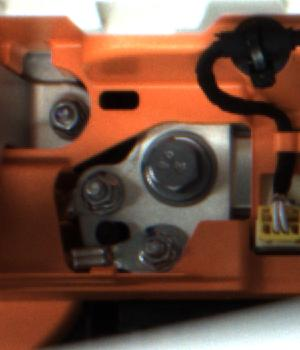nut_b: (143, 131, 221, 209)
